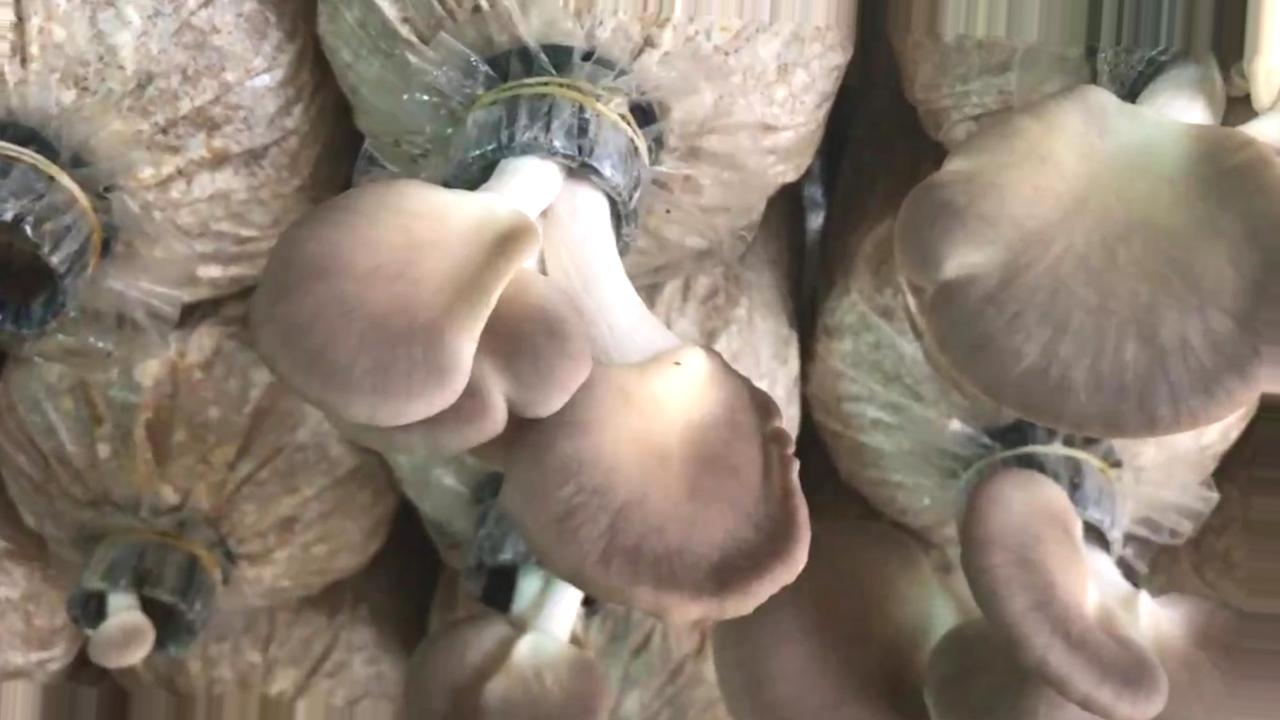nam: (259, 92, 811, 621), (710, 441, 1280, 720), (894, 44, 1279, 434), (408, 495, 608, 720), (67, 538, 202, 667)
